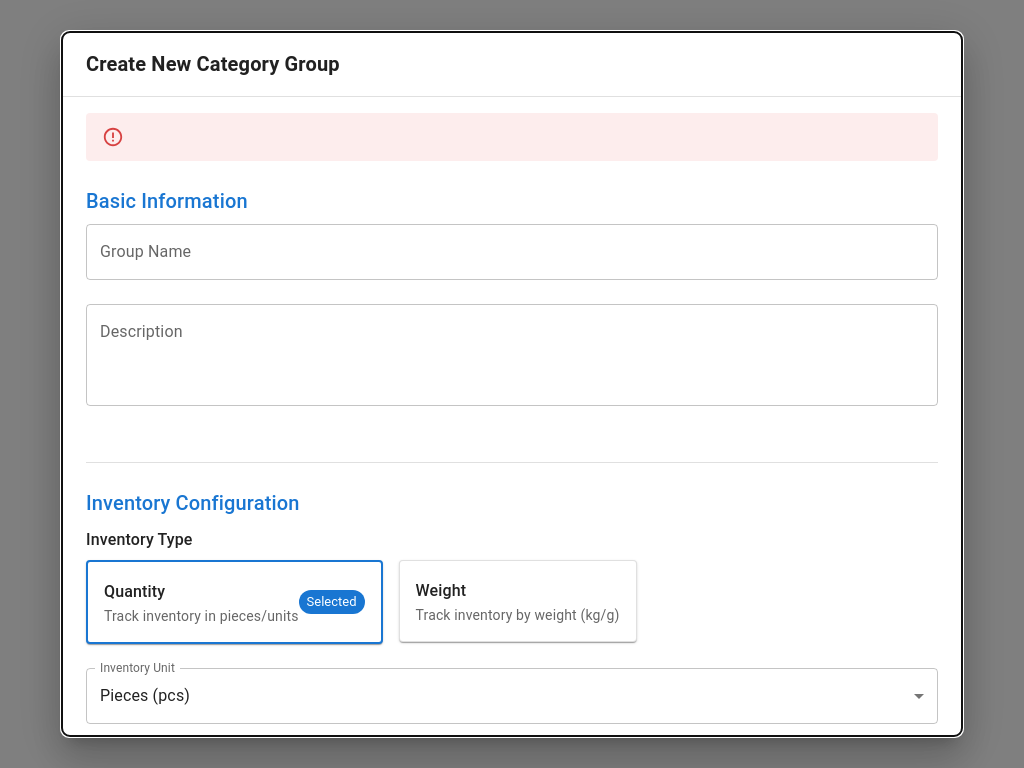
CategoryGroupFormWithInventory - Real-time Preview › should update preview when form values change
Note: Change the group name
Type "Test Group" into the field labelled "Group Name".
click(512, 252); type("Test Group")  # box [86,224,938,280]
(page scrolled)
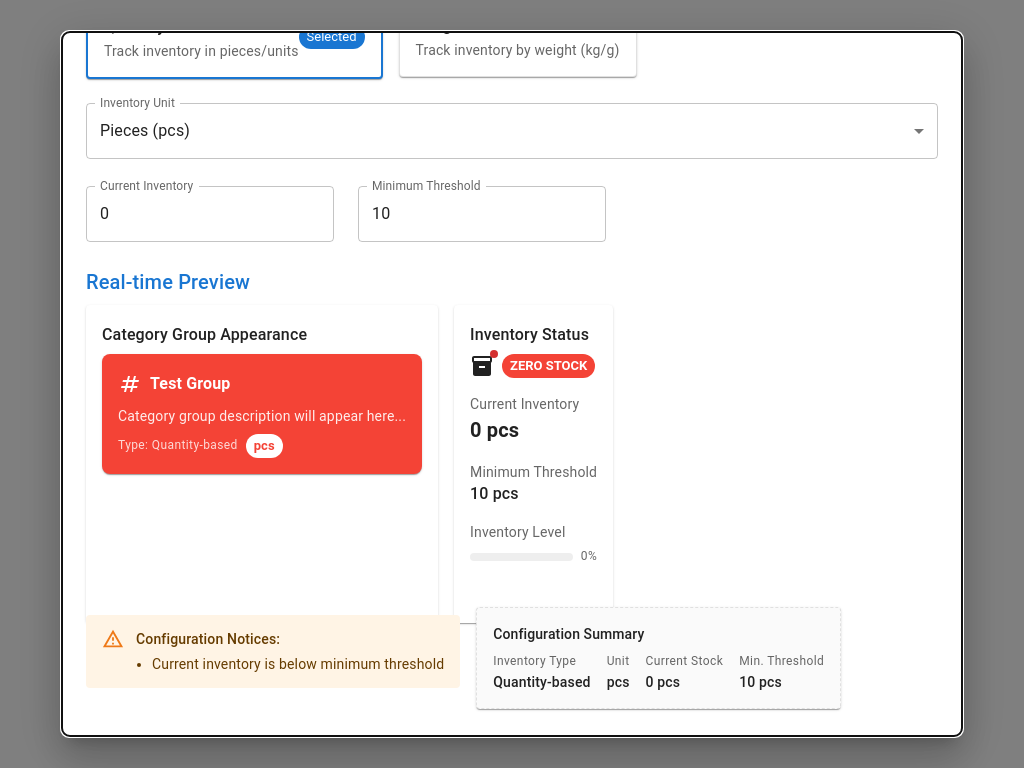
Now the heading "Test Group" is shown, box [150,370,230,398]
